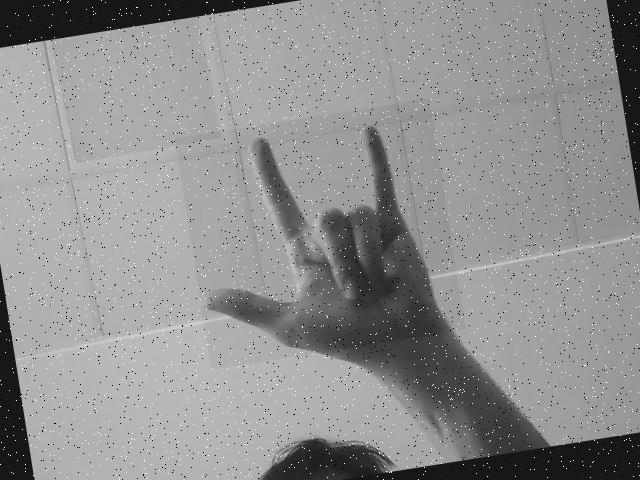I_Love_You: (174, 98, 466, 370)
